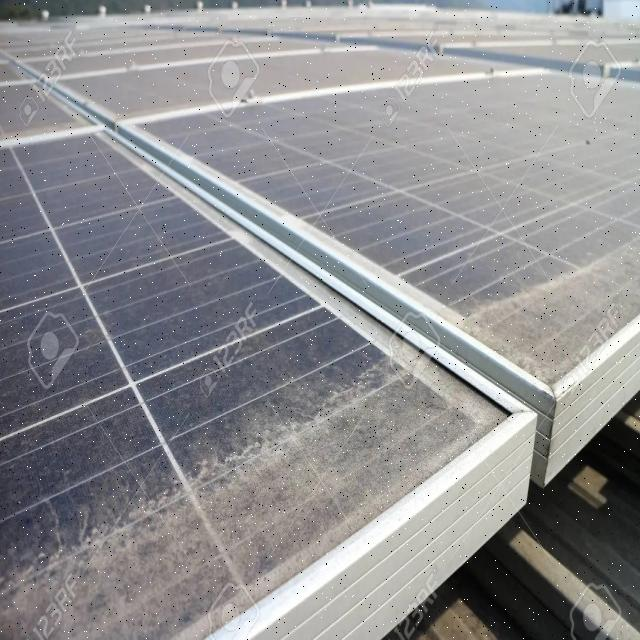dusty: (18, 357, 486, 640), (471, 238, 640, 380)
